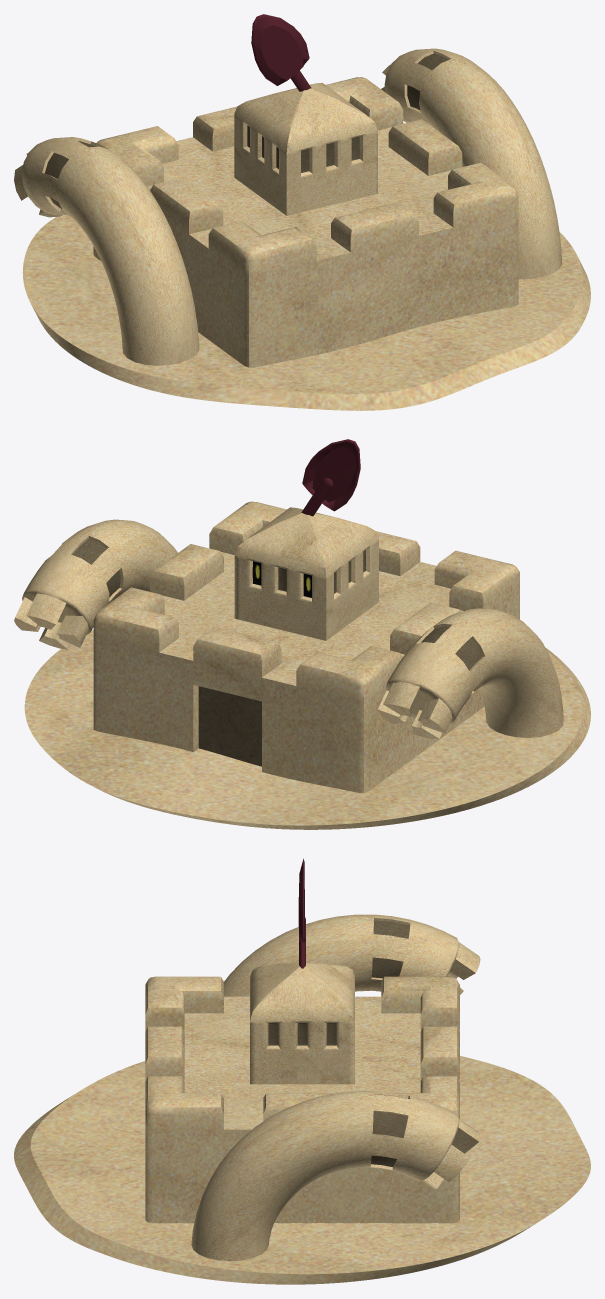
3 renders of one model, top to bottom at view 1: azimuth 30°, elevation 25°; view 2: azimuth 150°, elevation 25°; view 3: azimuth 270°, elevation 25°, orthographic.
Parts seen in each view (by area): view 1: Base, Sand, Pillar_Arms, Roof, Shovel; view 2: Base, Sand, Pillar_Arms, Roof, Shovel; view 3: Sand, Base, Pillar_Arms, Roof, Shovel.
Boxes of the visible parts, bbox=[...] form: Base: bbox=[93, 77, 518, 367]; Sand: bbox=[22, 215, 590, 410]; Pillar_Arms: bbox=[14, 48, 562, 365]; Roof: bbox=[234, 82, 377, 215]; Shovel: bbox=[251, 14, 311, 91]; Base: bbox=[93, 501, 519, 792]; Sand: bbox=[24, 629, 590, 829]; Pillar_Arms: bbox=[14, 519, 563, 738]; Roof: bbox=[234, 507, 378, 640]; Shovel: bbox=[301, 439, 360, 516]; Sand: bbox=[14, 1056, 590, 1284]; Base: bbox=[145, 976, 459, 1223]; Pillar_Arms: bbox=[191, 914, 480, 1261]; Roof: bbox=[250, 963, 354, 1084]; Shovel: bbox=[298, 858, 305, 968].
Size of the model in its own units: 26.52 by 15.06 by 27.51.
4 materials, 3 textured.
